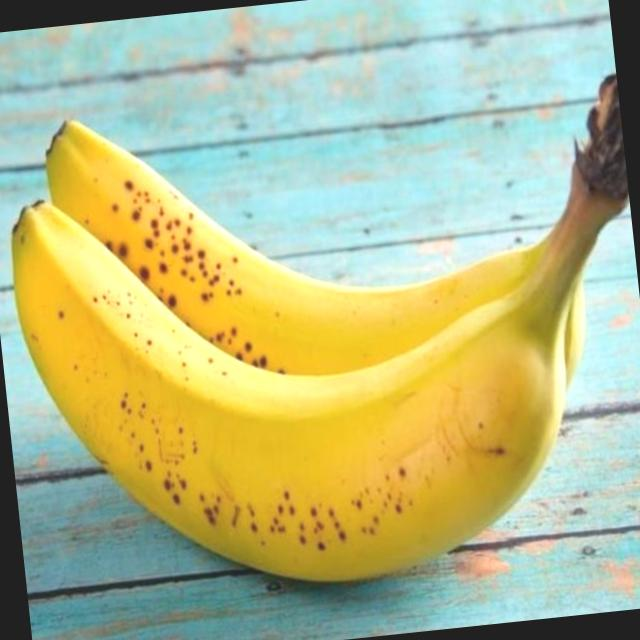chuoi: (11, 121, 622, 581)
